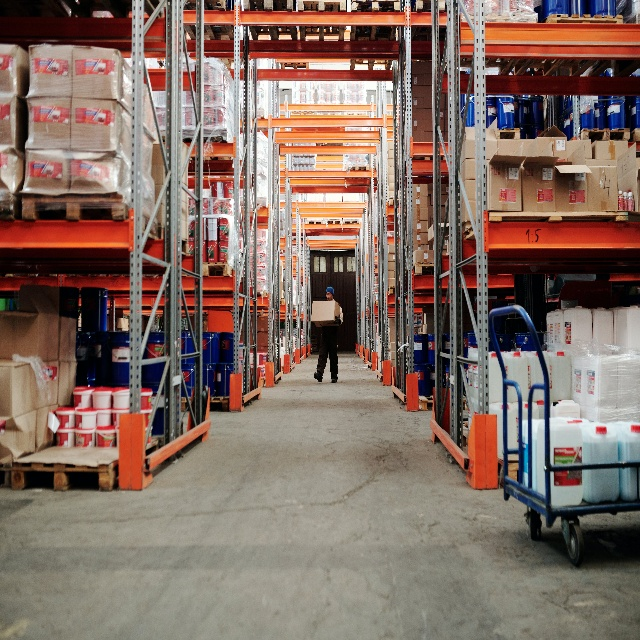Guantes: (333, 315, 339, 325)
